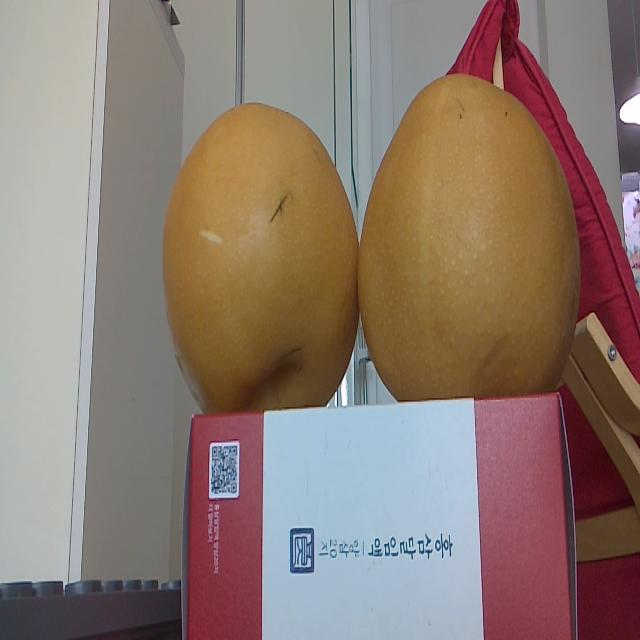pear: (360, 70, 580, 403), (163, 100, 359, 418)
